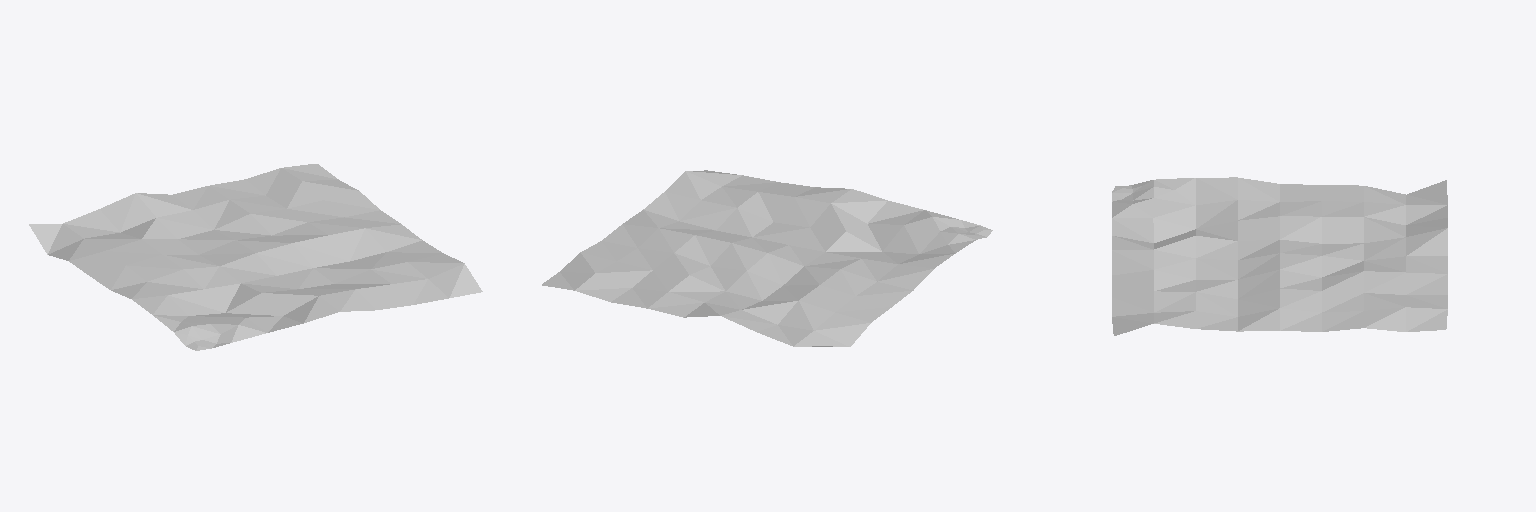
File: desert.obj
3 renders of one model, left to right at view 1: azimuth 30°, elevation 25°; view 2: azimuth 150°, elevation 25°; view 3: azimuth 270°, elevation 25°, orthographic.
Visible parts, largest first — view 1: Plane; view 2: Plane; view 3: Plane.
Part boxes in pixels (left/top/right/bottom): Plane: left=29, top=164, right=482, bottom=350; Plane: left=542, top=170, right=992, bottom=346; Plane: left=1112, top=177, right=1447, bottom=335.
Bounding box in the file's own units: 23.75 × 1.62 × 23.76.